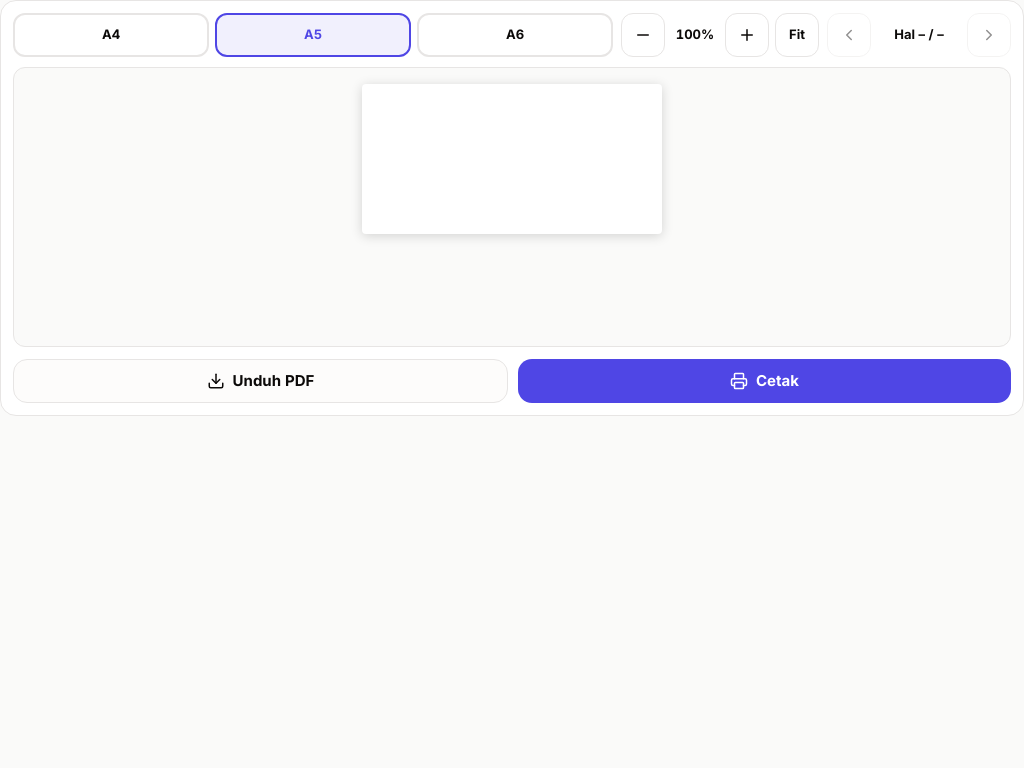
PdfPreviewPanel › zoom +/− mengubah label persentase
The width and height of the screenshot is (1024, 768).
Expected: the text "100%" is shown, [676, 26, 714, 42]
Click the button named "Perbesar" at (747, 35), box [725, 13, 769, 57]
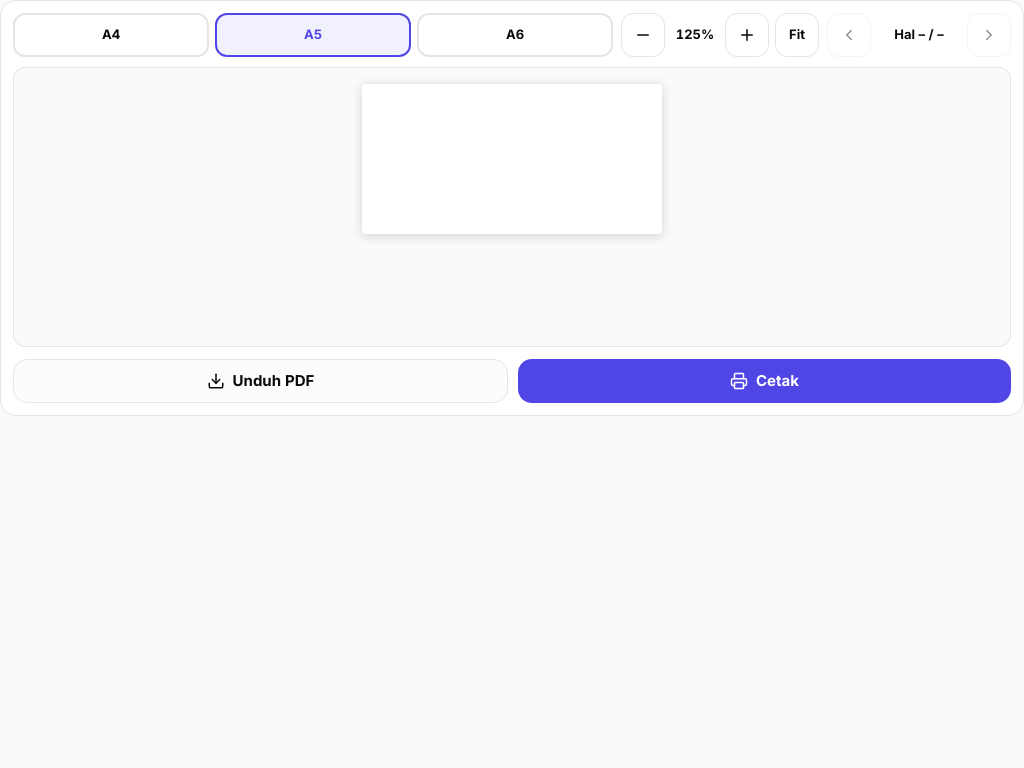
Expected: the text "125%" is shown, [676, 26, 714, 42]
Click the button named "Perkecil" at (643, 35), box [621, 13, 665, 57]
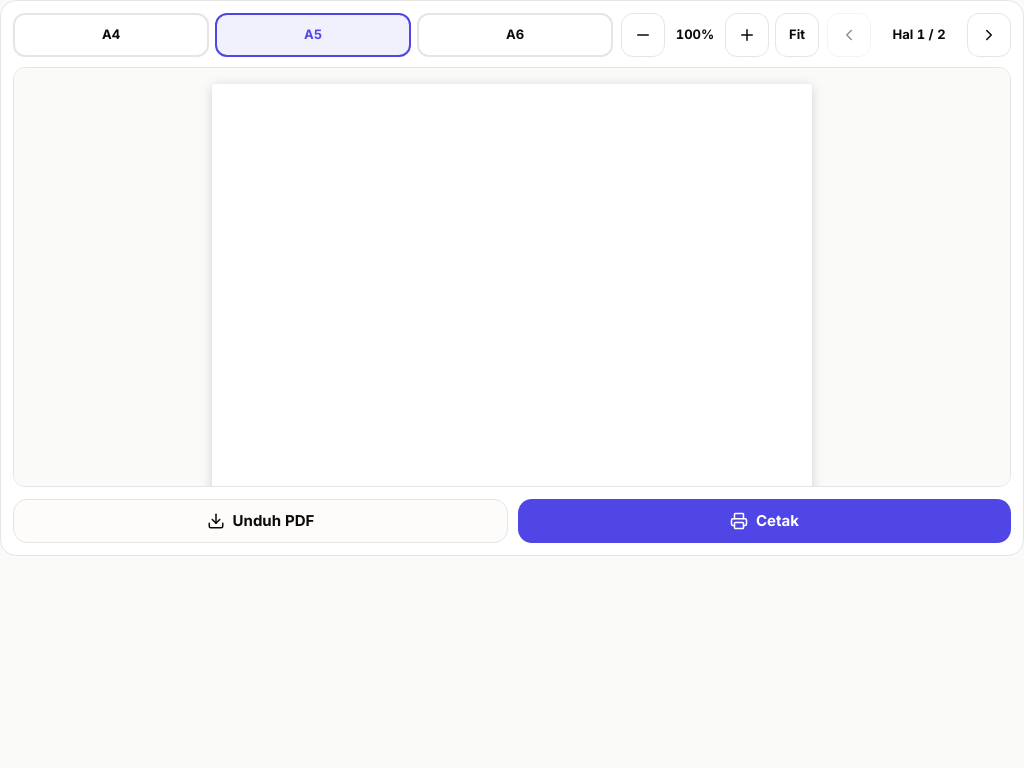
Expected: the text "100%" is shown, [676, 26, 714, 42]
